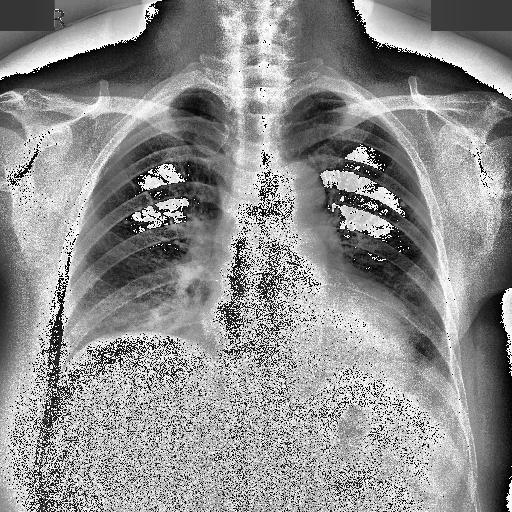0- Aortic enlargement: (258, 160, 324, 218), (267, 160, 325, 221), (262, 162, 325, 214)
3- Cardiomegaly: (208, 284, 419, 361), (199, 300, 414, 368), (197, 300, 425, 362)
8- Nodule-Mass: (399, 202, 406, 206)
